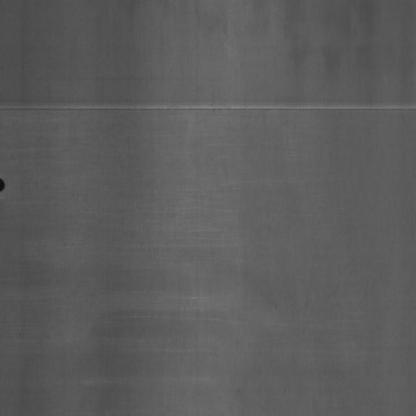punching_hole: (0, 173, 7, 196)
welding_line: (0, 94, 414, 122)
